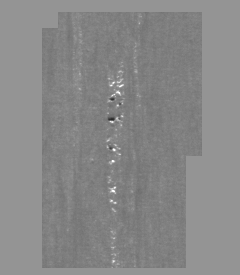oxl: (35, 10, 205, 265)
